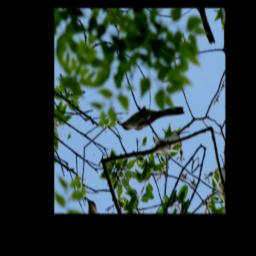Cuckoo: (117, 76, 186, 160)
